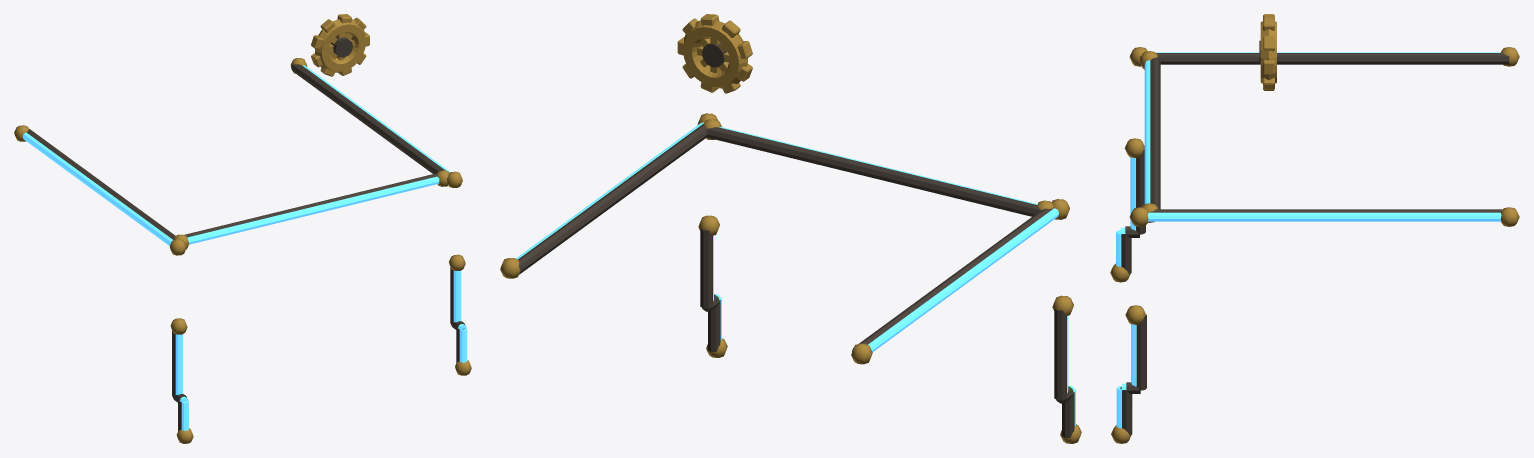
Rendered from tour-dress.glb.
3 renders of one model, left to right at view 1: azimuth 30°, elevation 25°; view 2: azimuth 150°, elevation 25°; view 3: azimuth 270°, elevation 25°, orthographic. The views are drawn at different scales.
Parts seen in each view (by area): view 1: tour-dress; view 2: tour-dress; view 3: tour-dress.
Part boxes in pixels (bbox=[...]): tour-dress: bbox=[14, 14, 471, 443]; tour-dress: bbox=[500, 14, 1081, 443]; tour-dress: bbox=[1110, 14, 1519, 443].
Bounding box in the file's own units: 1.69 × 1.81 × 1.72.
